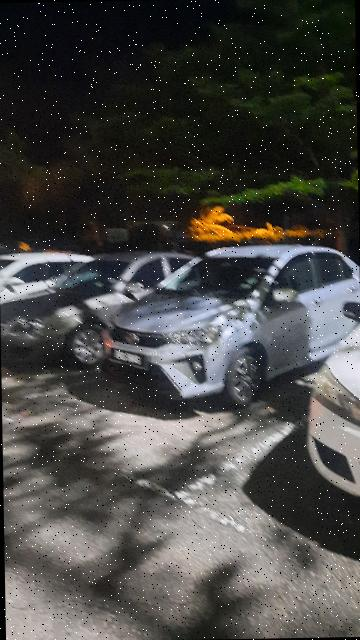License_Plate: (111, 345, 151, 373)
car: (100, 242, 360, 408), (1, 249, 218, 371), (305, 298, 360, 502)
